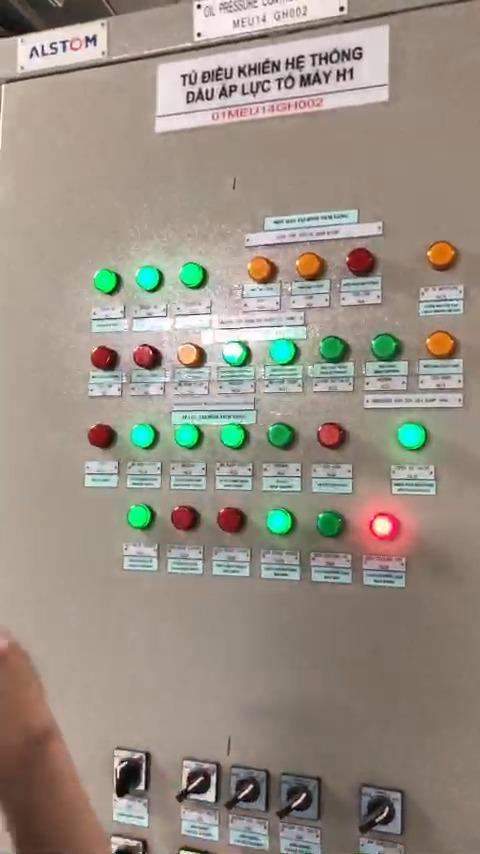led: (340, 245, 378, 279), (424, 239, 460, 274), (313, 508, 348, 542), (423, 328, 459, 361), (170, 420, 204, 454), (395, 422, 429, 455), (85, 341, 122, 371), (369, 513, 403, 544), (128, 421, 159, 454), (217, 505, 250, 536), (177, 258, 208, 290), (317, 334, 348, 366), (315, 419, 346, 451), (215, 421, 246, 453), (175, 341, 206, 372), (268, 420, 299, 451), (219, 339, 251, 369), (91, 266, 120, 298), (292, 253, 325, 281), (85, 421, 115, 451), (132, 341, 163, 370), (268, 339, 301, 366), (368, 333, 399, 361), (133, 265, 162, 294), (265, 506, 293, 536), (169, 504, 200, 531), (245, 258, 274, 286), (127, 502, 154, 532)
twist: (358, 783, 404, 835), (107, 749, 152, 796), (232, 765, 269, 812), (182, 759, 218, 803), (285, 776, 321, 819)
